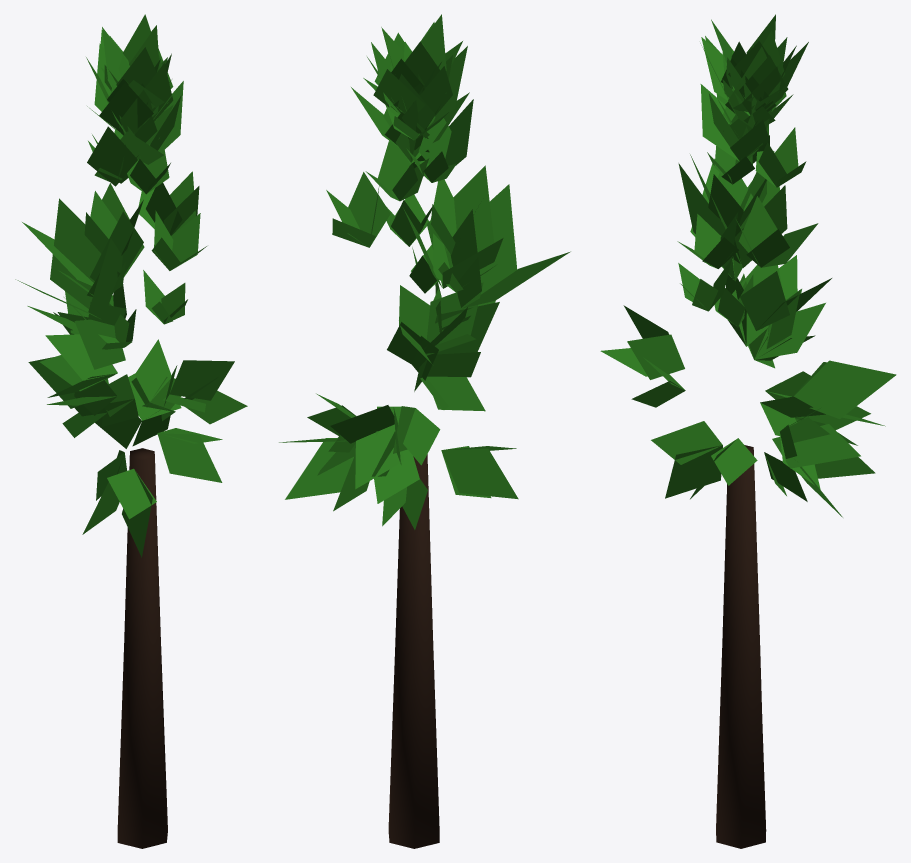
Rendered from Tree_08_B_LOD2.obj.
3 views of the same model, side by side, from view 1: azimuth 30°, elevation 25°; view 2: azimuth 150°, elevation 25°; view 3: azimuth 270°, elevation 25° (orthographic).
Visible parts, largest first — view 1: Leaves, Trunk; view 2: Leaves, Trunk; view 3: Leaves, Trunk.
Boxes of the visible parts, bbox=[...] form: Leaves: bbox=[15, 14, 247, 557]; Trunk: bbox=[117, 448, 167, 848]; Leaves: bbox=[279, 14, 570, 529]; Trunk: bbox=[388, 454, 439, 848]; Leaves: bbox=[600, 14, 896, 517]; Trunk: bbox=[716, 445, 766, 848].
Bounding box in the file's own units: 3.18 × 11.14 × 3.68.
